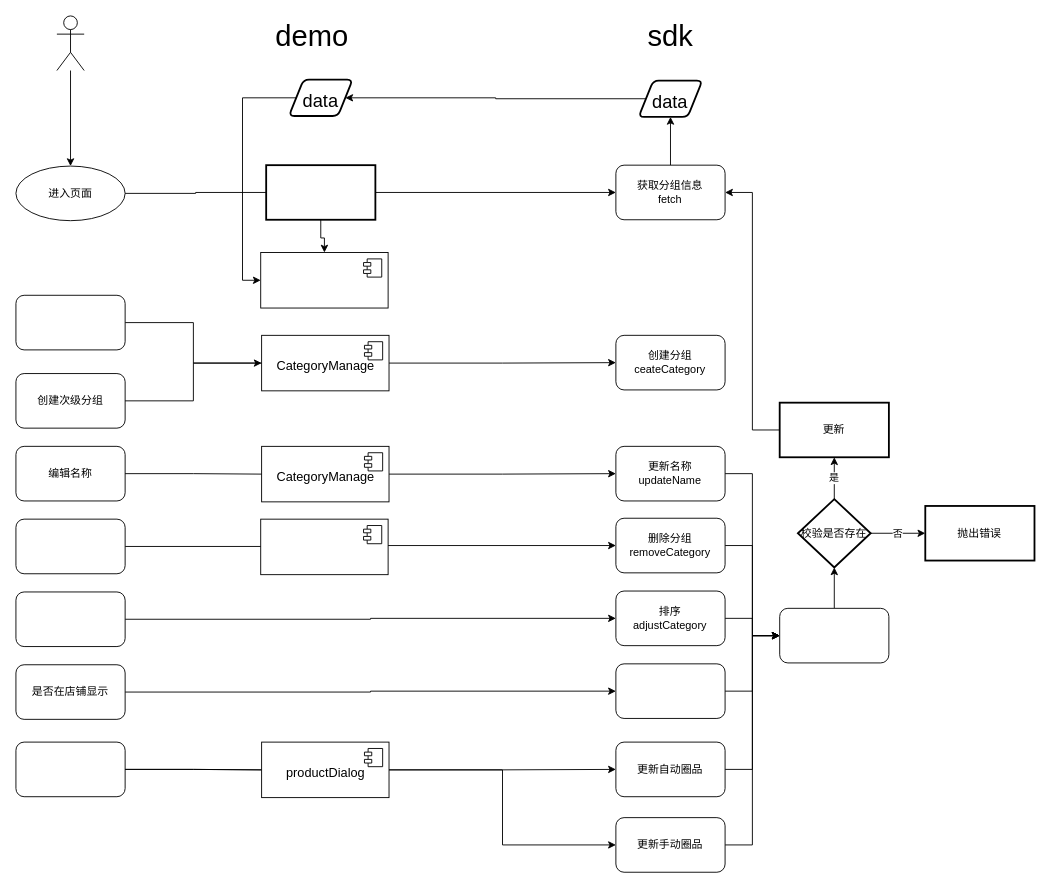
Image size: 1051x888. Some labels were removed from this diagram. Each missing label, with the box of its shape:
CategoryTable: (260, 252, 388, 308)
PopConfirm: (260, 518, 388, 575)
创建分组: (15, 294, 125, 350)
删除: (15, 518, 125, 574)
实例化SDK、存储分组数据、渲染: (265, 164, 376, 220)
排序: (15, 591, 125, 647)
更新显示状态 updateStatus: (615, 663, 725, 718)
查找分组信息 findCategoryById: (779, 607, 889, 663)
绑定商品/圈品: (15, 741, 125, 797)
